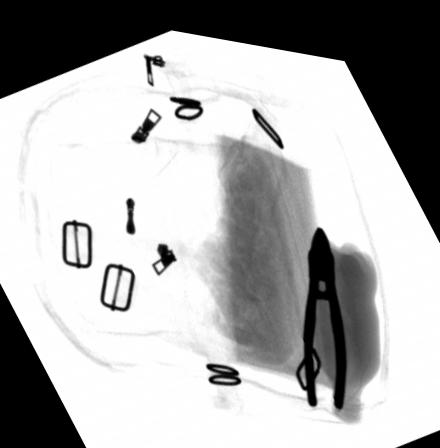Pliers: (300, 212, 349, 396)
